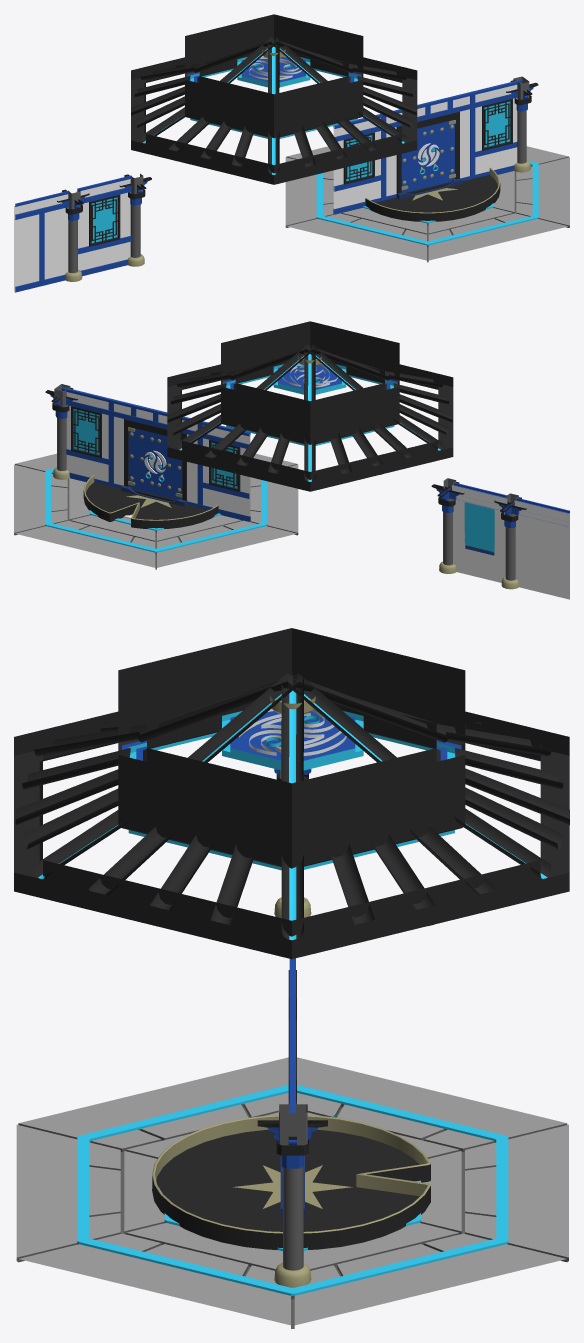
File: Stage2.fbx
The picture shows the model from 3 angles, top to bottom: view 1: azimuth 30°, elevation 25°; view 2: azimuth 150°, elevation 25°; view 3: azimuth 270°, elevation 25°; orthographic projection. The views are drawn at different scales.
Visible parts, largest first — view 1: Stage2_bossroof001, Stage2_floor, Door_frame001, Stage2_wall002, Stage2_wall001, floor_waterleaf, Door_Right001, Door_Left001; view 2: Stage2_bossroof001, Stage2_floor, Door_frame001, Stage2_wall002, Stage2_wall001, floor_waterleaf, Door_Right001, Door_Left001; view 3: Stage2_bossroof001, Stage2_floor, floor_waterleaf, Door_frame001.
Boxes of the visible parts, box(x1,y1,x2,y2) form: Stage2_bossroof001: box(131, 14, 417, 184); Stage2_floor: box(285, 146, 569, 262); Door_frame001: box(333, 76, 538, 214); Stage2_wall002: box(14, 189, 89, 292); Stage2_wall001: box(76, 173, 151, 276); floor_waterleaf: box(365, 167, 500, 221); Door_Right001: box(426, 119, 455, 186); Door_Left001: box(401, 126, 430, 191); Stage2_bossroof001: box(167, 321, 453, 491); Stage2_floor: box(14, 453, 298, 569); Door_frame001: box(45, 384, 250, 521); Stage2_wall002: box(494, 493, 569, 599); Stage2_wall001: box(431, 478, 507, 582); floor_waterleaf: box(83, 475, 218, 528); Door_Right001: box(128, 427, 157, 493); Door_Left001: box(153, 433, 182, 499); Stage2_bossroof001: box(14, 628, 569, 959); Stage2_floor: box(16, 1057, 568, 1328); floor_waterleaf: box(152, 1115, 430, 1249); Door_frame001: box(257, 958, 327, 1287).
Bounding box in the file's own units: 4443 × 1462 × 1983.
